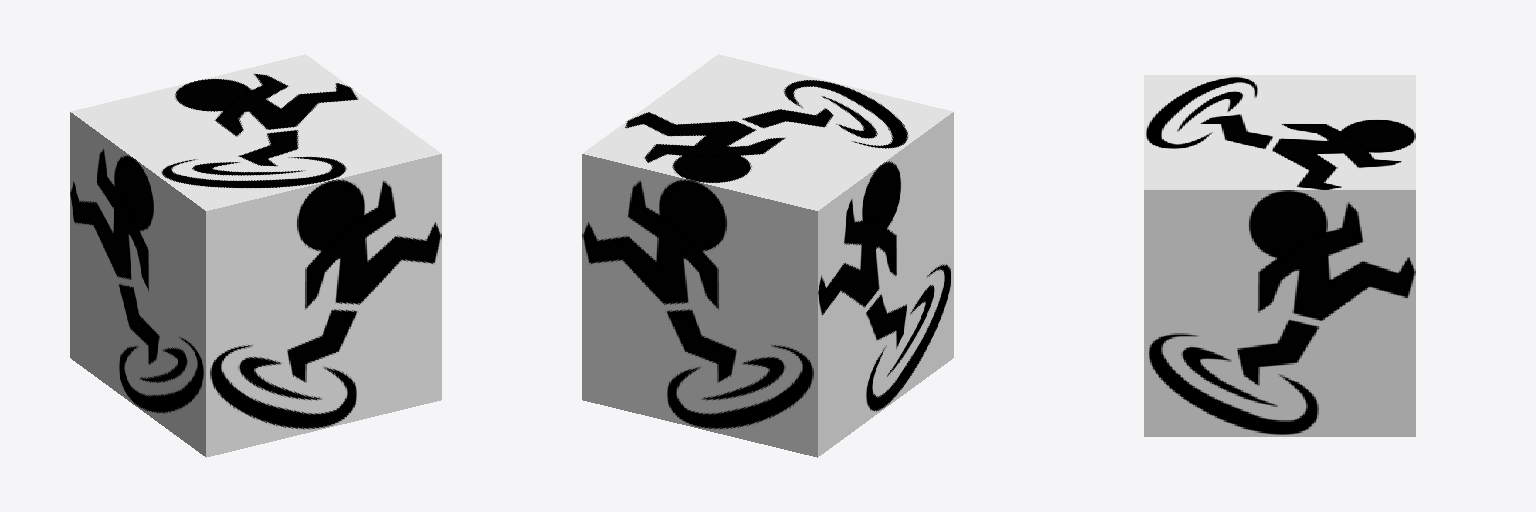
3 renders of one model, left to right at view 1: azimuth 30°, elevation 25°; view 2: azimuth 150°, elevation 25°; view 3: azimuth 270°, elevation 25°, orthographic.
Parts seen in each view (by area): view 1: pCube1; view 2: pCube1; view 3: pCube1.
Boxes of the visible parts, x1,y1,x2,y2 form: pCube1: [70, 54, 441, 457]; pCube1: [582, 54, 953, 457]; pCube1: [1144, 75, 1415, 436].
Size of the model in its own units: 2 by 2 by 2.
1 materials, 1 textured.